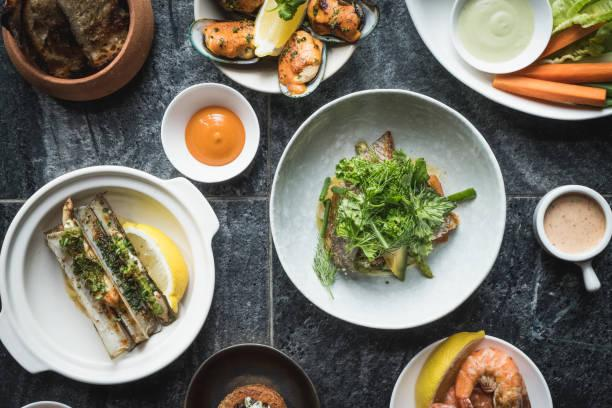Braised Crucian Carp: (268, 87, 499, 326), (0, 162, 223, 387), (192, 0, 373, 93), (0, 0, 157, 106)
